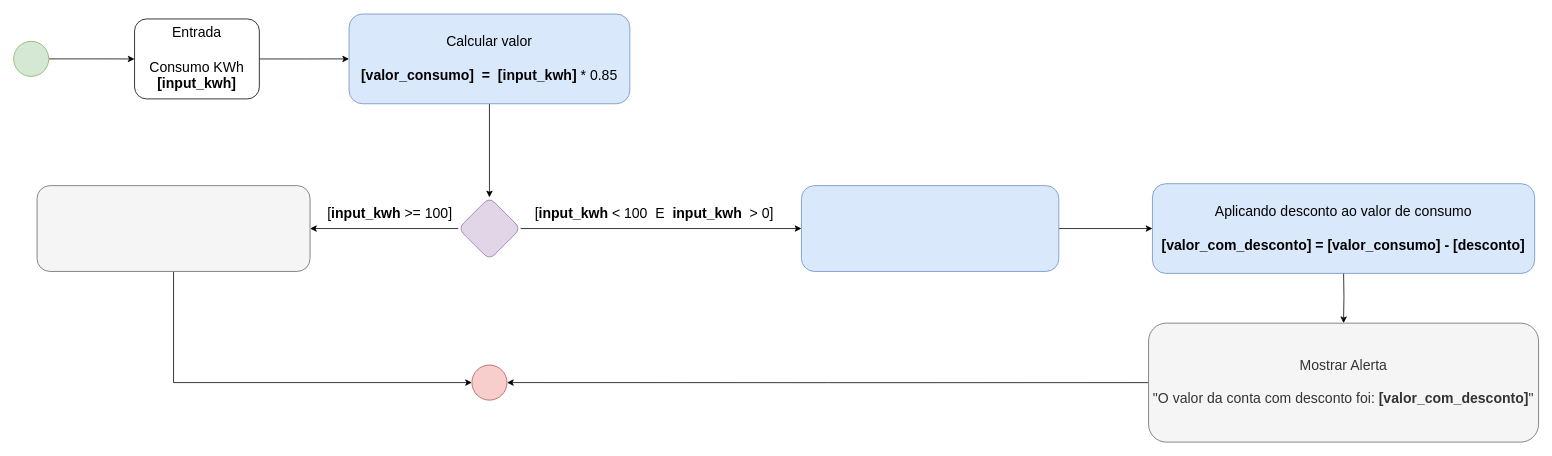
The diagram is 1552 pixels wide and 456 high, and some of its shapes have lost their labels. Each missing label, with the centre of its shape:
Desconto [desconto] = [valor_consumo] * 0.10: point 930,228
Mostrar Alerta "O valor da conta sem desconto foi: [valor_consumo] ": point 173,228
